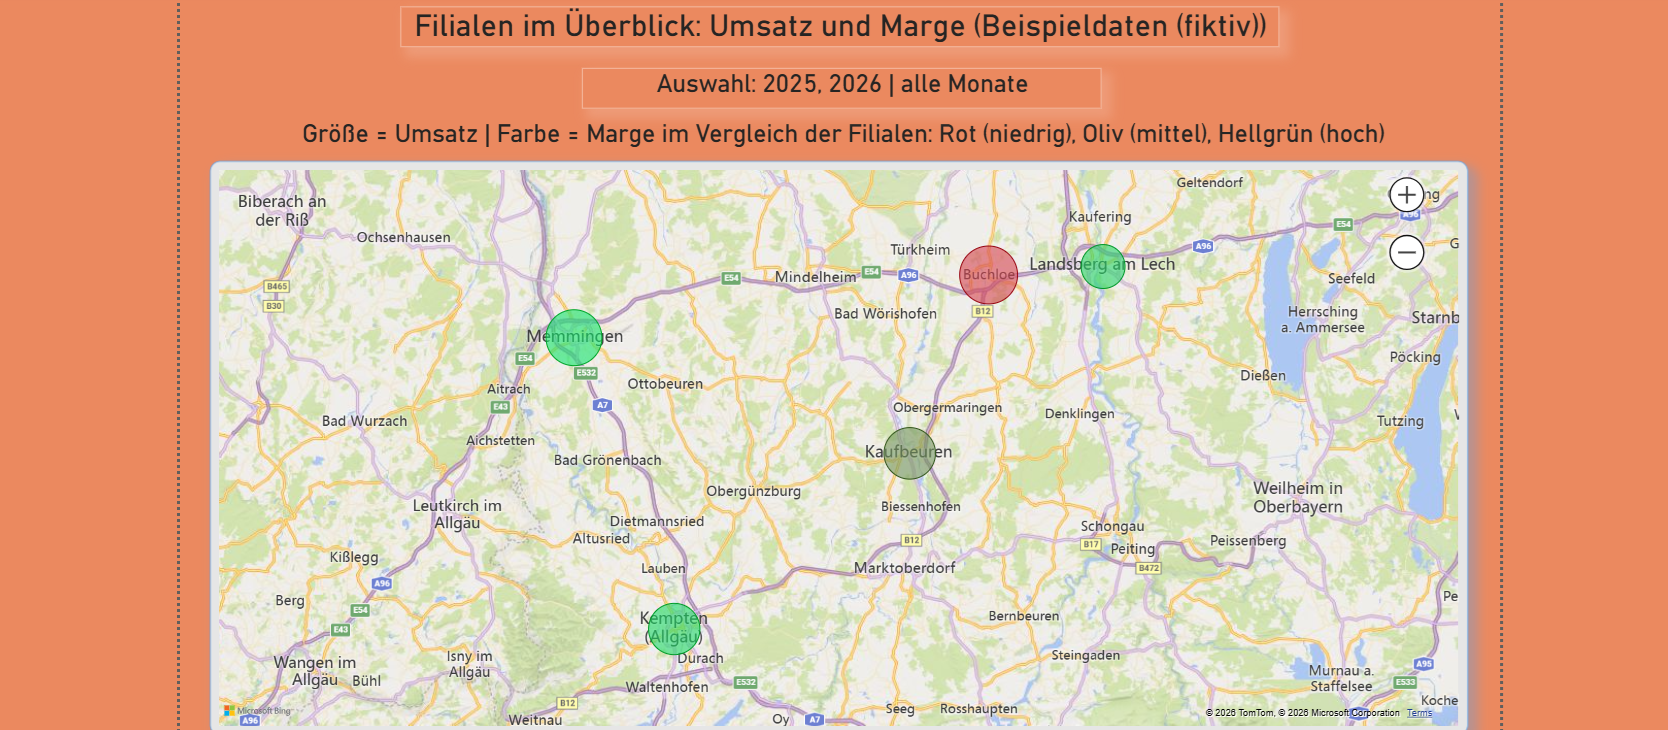

What the dashboard file says about the page in this screenshot:
{"tool":"powerbi","page":{"name":"Filialen","canvas":[1280,720],"ordinal":2},"visuals":[{"type":"map","fields":{"Category":["Filialen.Filiale"],"Size":["_Measures.Umsatz"]},"box":[28.8,163.5,1220.4,557.2],"z":0},{"type":"actionButton","title":"Filialen im Überblick: Umsatz und Marge (Beispieldaten (fiktiv))","box":[213.5,13.6,852.5,39.4],"z":3000},{"type":"actionButton","title":"Größe = Umsatz | Farbe = Marge im Vergleich der Filialen: Rot (niedrig), Oliv (mittel), Hellgrün (hoch)","box":[71.2,122.7,1144.7,40.9],"z":4000},{"type":"actionButton","box":[390.7,72.7,504.2,39.4],"z":4001}]}

Visuals, with their boxes on the page's 1280x720 design canvas (x1, y1, x2, y2). These are canvas units, not pixel positions in the 1668x730 screenshot, which may show the page scaled, cropped or inside an application window:
map - Filialen.Filiale x _Measures.Umsatz: [left=29, top=164, right=1249, bottom=721]
"Filialen im Überblick: Umsatz und Marge (Beispieldaten (fiktiv))" actionButton: [left=214, top=14, right=1066, bottom=53]
"Größe = Umsatz | Farbe = Marge im Vergleich der Filialen: Rot (niedrig), Oliv (mittel), Hellgrün (hoch)" actionButton: [left=71, top=123, right=1216, bottom=164]
actionButton: [left=391, top=73, right=895, bottom=112]
